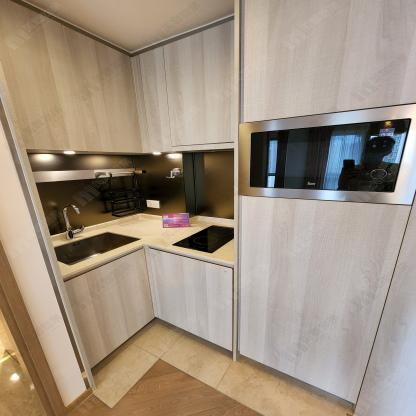Cupboard: (68, 194, 411, 406), (0, 3, 238, 154)
Sink: (52, 231, 146, 265)
Stove: (171, 221, 237, 255)
